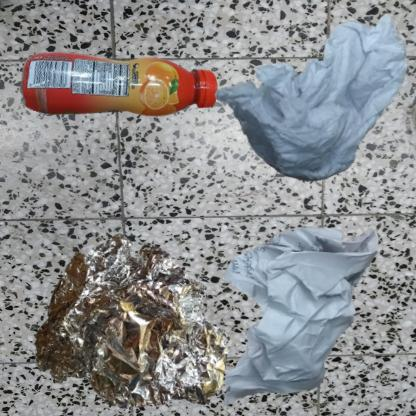aluminio: (10, 213, 249, 416)
botella: (10, 10, 269, 197)
papel: (213, 213, 382, 416), (213, 10, 409, 184)
